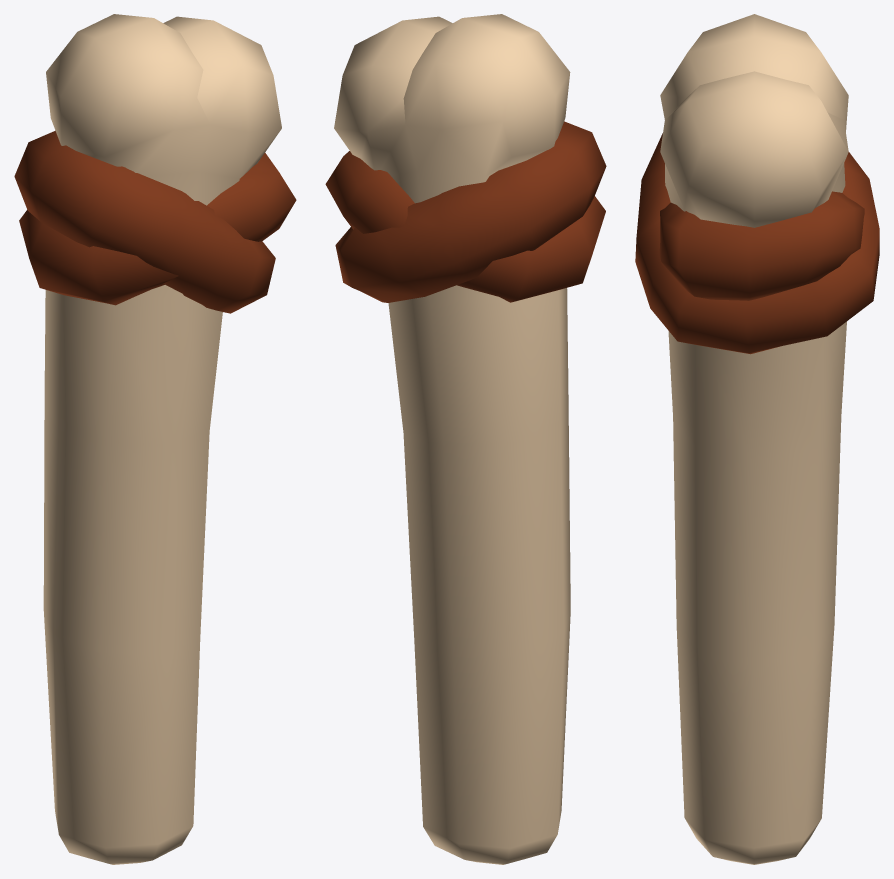
Rendered from BoneGun.fbx.
3 views of the same model, side by side, from view 1: azimuth 30°, elevation 25°; view 2: azimuth 150°, elevation 25°; view 3: azimuth 270°, elevation 25° (orthographic).
Visible parts, largest first — view 1: BoneGun; view 2: BoneGun; view 3: BoneGun.
Part boxes in pixels (bbox=[...]): BoneGun: bbox=[14, 14, 296, 864]; BoneGun: bbox=[325, 14, 606, 864]; BoneGun: bbox=[635, 14, 879, 864].
Size of the model in its own units: 23.3 by 75.48 by 20.16.
